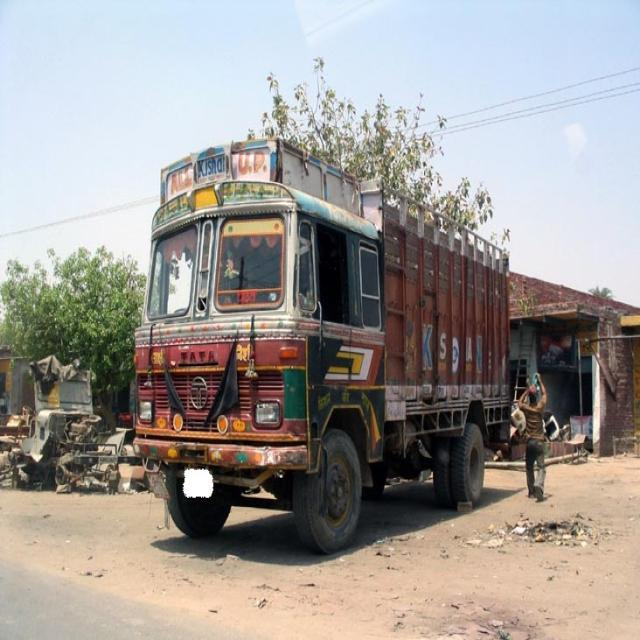truck_front: (131, 131, 515, 562)
